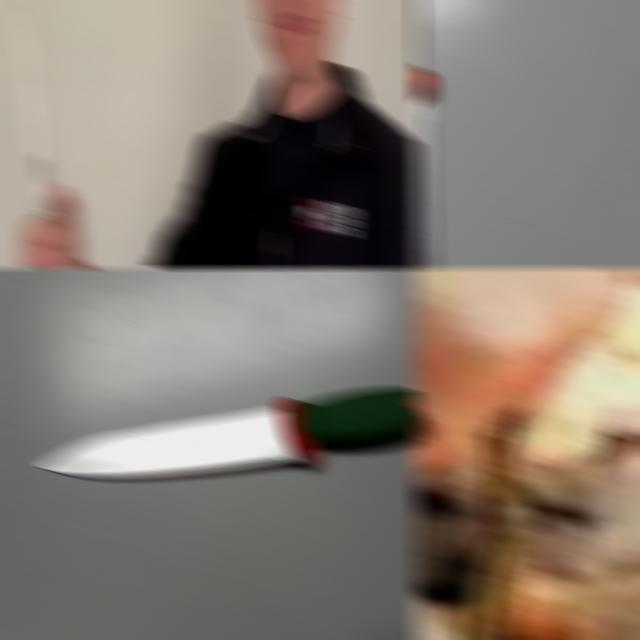Knife: (39, 386, 420, 477)
Knife_Handle: (13, 4, 82, 269)
